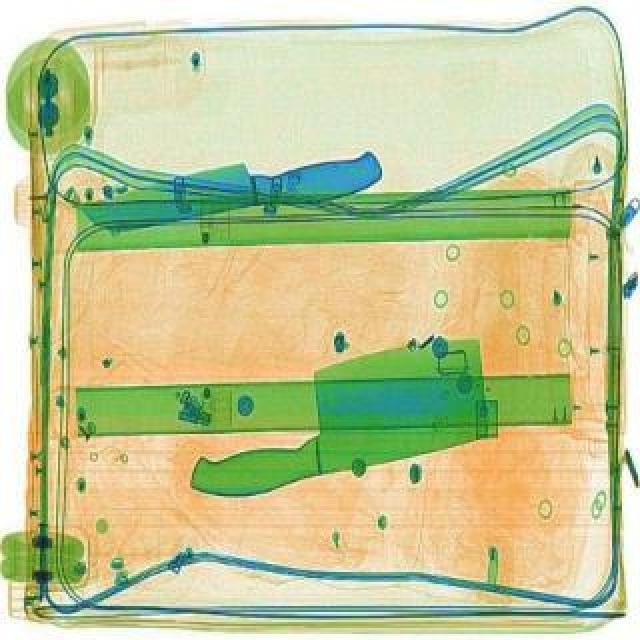knife: (164, 322, 512, 512), (74, 138, 386, 236)
